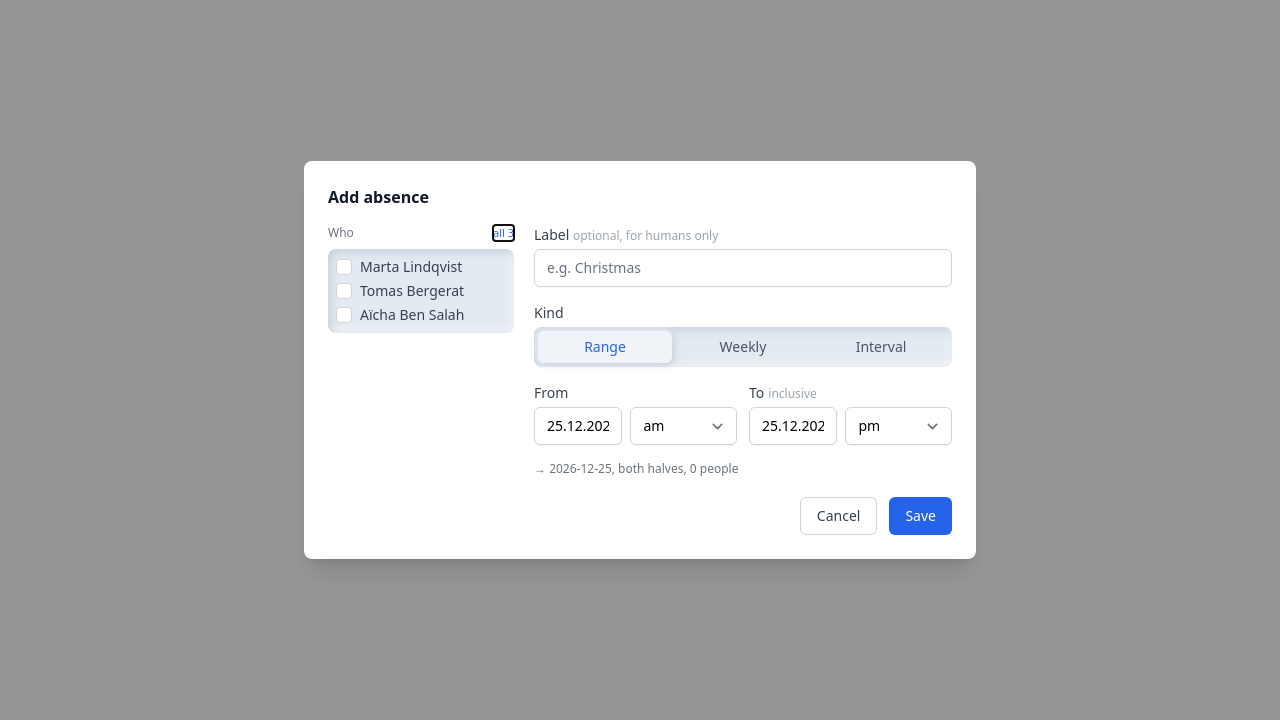
AbsenceDialog › selects the whole team in one click — the public-holiday flow
Click the button "all 3".
click(504, 233)  # box [493,225,514,241]
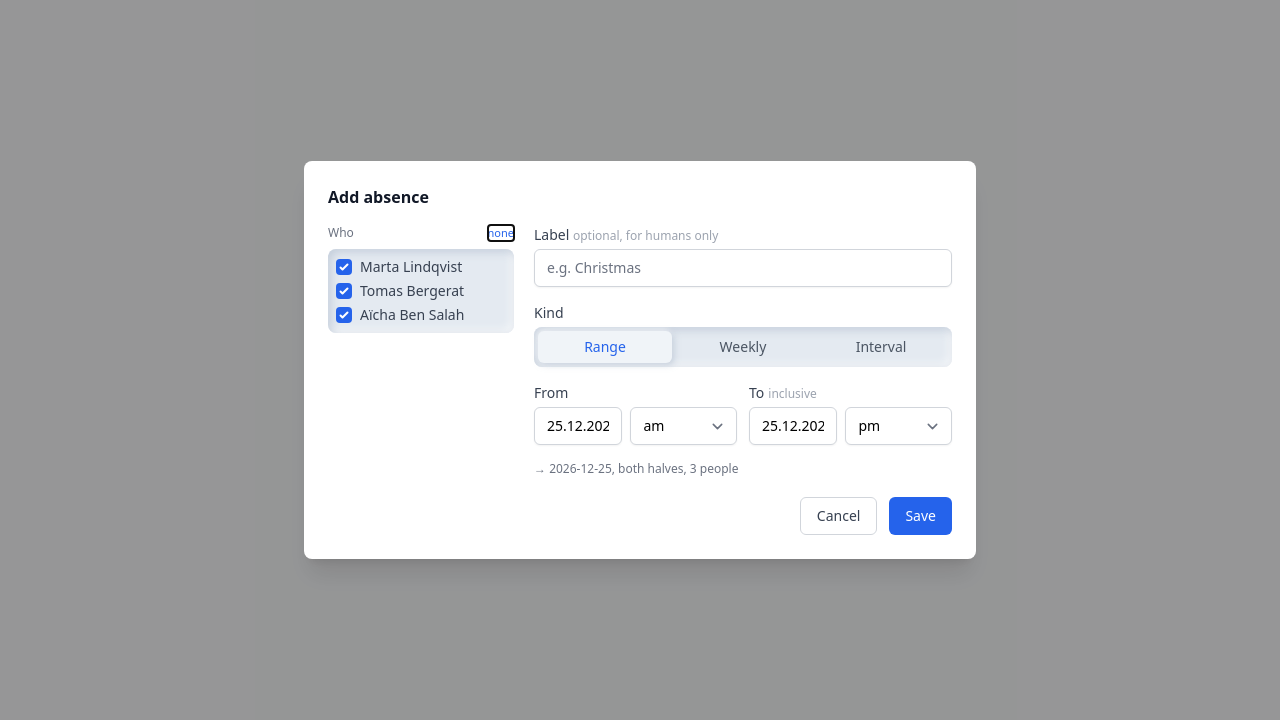
Expected: the checkbox labelled "Marta Lindqvist" is checked, [336,259,352,275]
Expected: the checkbox labelled "Aïcha Ben Salah" is checked, [336,307,352,323]
Expected: the text "→ 2026-12-25, both halves, 3 people" is shown, [534,460,738,477]
